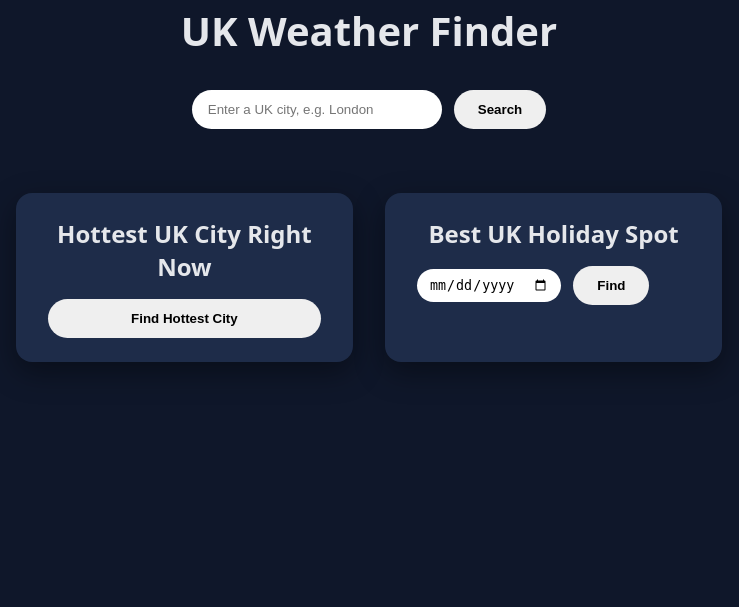
Scenario: UK Weather Finder › Hottest City › happy path › renders the city name
Click the button with test id "hottest-submit" at [185, 319], box [48,299,321,338]
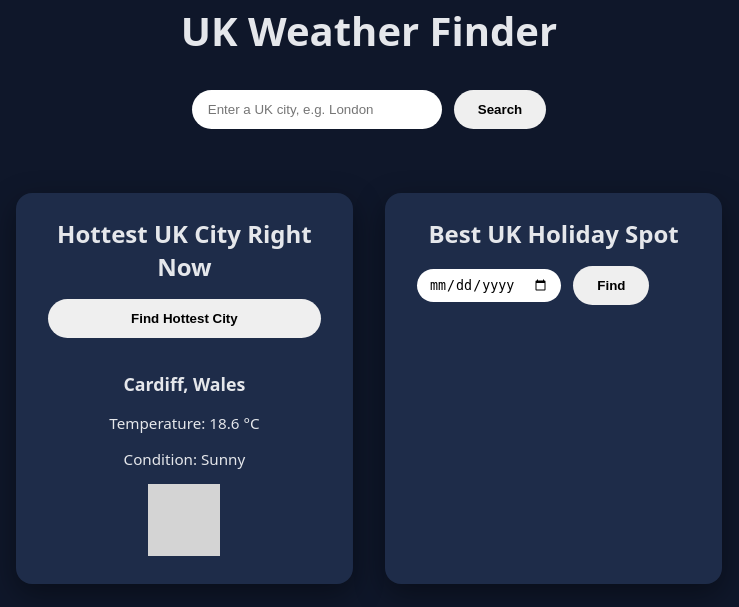
Result: the heading "Cardiff, Wales" is shown at [124,372,245,396]
